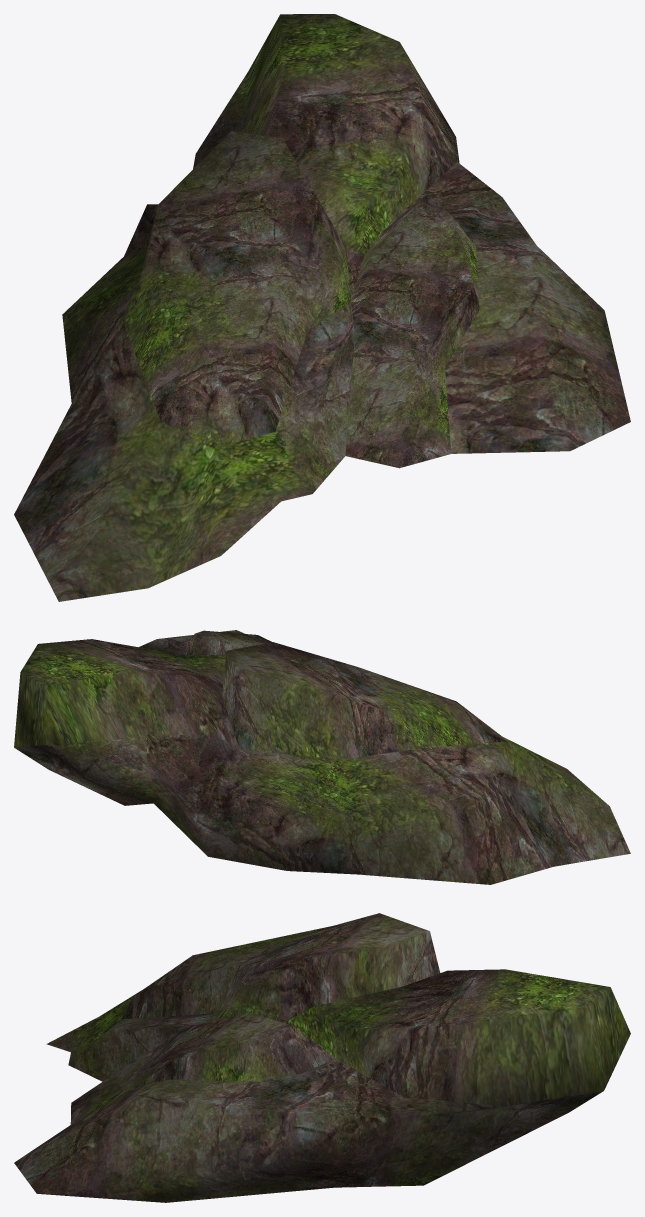
File: S_Rock_Green030.FBX
3 renders of one model, top to bottom at view 1: azimuth 30°, elevation 25°; view 2: azimuth 150°, elevation 25°; view 3: azimuth 270°, elevation 25°, orthographic. The views are drawn at different scales.
Visible parts, largest first — view 1: S_Rock_Green030; view 2: S_Rock_Green030; view 3: S_Rock_Green030.
Part boxes in pixels (bbox=[...]): S_Rock_Green030: bbox=[14, 14, 630, 601]; S_Rock_Green030: bbox=[14, 630, 630, 884]; S_Rock_Green030: bbox=[14, 913, 630, 1202].
Size of the model in its own units: 453 by 446 by 212.
